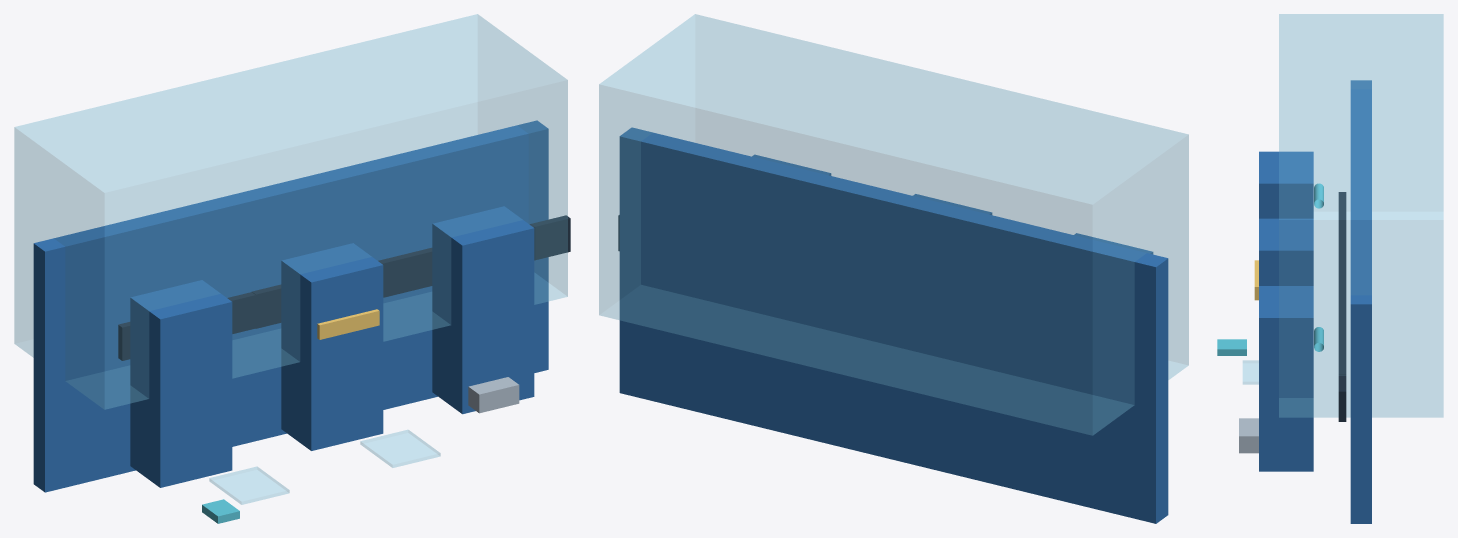
The model's file is top-load-carton-packaging-line.gltf.
The picture shows the model from 3 angles, left to right: view 1: azimuth 30°, elevation 25°; view 2: azimuth 150°, elevation 25°; view 3: azimuth 270°, elevation 25°; orthographic projection. The views are drawn at different scales.
Parts seen in each view (by area): view 1: Machine envelope, Base frame, Module 1, Module 2, Module 3, Infeed conveyor, Main conveyor, Service door A, Service door B, Electrical cabinet, Outfeed conveyor, Product tooling (+1 smaller); view 2: Machine envelope, Base frame; view 3: Machine envelope, Module 3, Base frame, Module 1, Module 2, Main conveyor, Electrical cabinet, Infeed conveyor, Control panel, Outfeed conveyor, Service door A.
Boxes of the visible parts, x1,y1,x2,y2 form: Machine envelope: (14, 14, 567, 409); Base frame: (33, 120, 548, 492); Module 1: (130, 280, 232, 487); Module 2: (281, 243, 383, 450); Module 3: (432, 206, 534, 414); Infeed conveyor: (118, 289, 281, 360); Main conveyor: (252, 247, 432, 328); Service door A: (209, 466, 289, 504); Service door B: (360, 430, 440, 467); Electrical cabinet: (468, 377, 519, 413); Outfeed conveyor: (529, 215, 570, 260); Product tooling: (317, 309, 379, 339); Machine envelope: (599, 14, 1188, 435); Base frame: (619, 127, 1168, 523); Machine envelope: (1279, 14, 1443, 417); Module 3: (1259, 286, 1313, 471); Base frame: (1350, 80, 1371, 523); Module 1: (1259, 151, 1313, 218); Module 2: (1259, 218, 1313, 285); Main conveyor: (1338, 251, 1346, 374); Electrical cabinet: (1239, 418, 1258, 453); Infeed conveyor: (1338, 192, 1346, 250); Control panel: (1217, 339, 1246, 355); Outfeed conveyor: (1338, 374, 1346, 421); Service door A: (1243, 360, 1258, 384).
Bounding box in the file's own units: 12.98 × 7.79 × 5.37.
